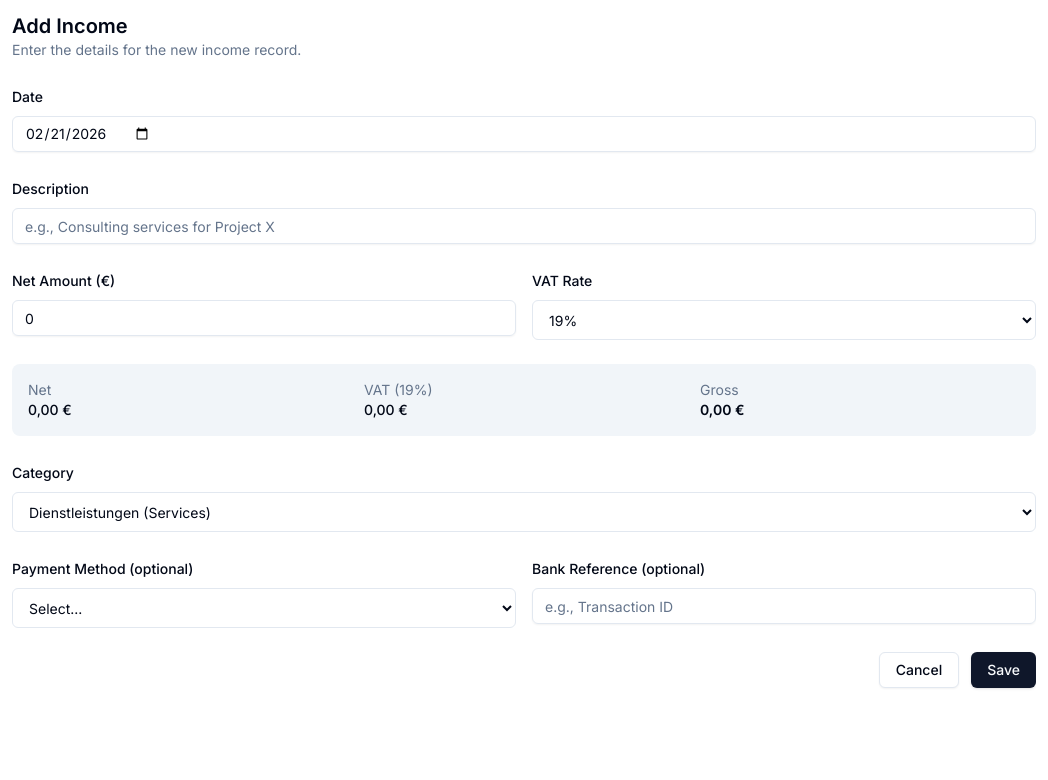
IncomeForm › loading state › disables form during submission
Fill minimum required fields (date already has default value)
Type "Test" into the field labelled "Description" at (524,226), box left=12, top=208, right=1036, bottom=244
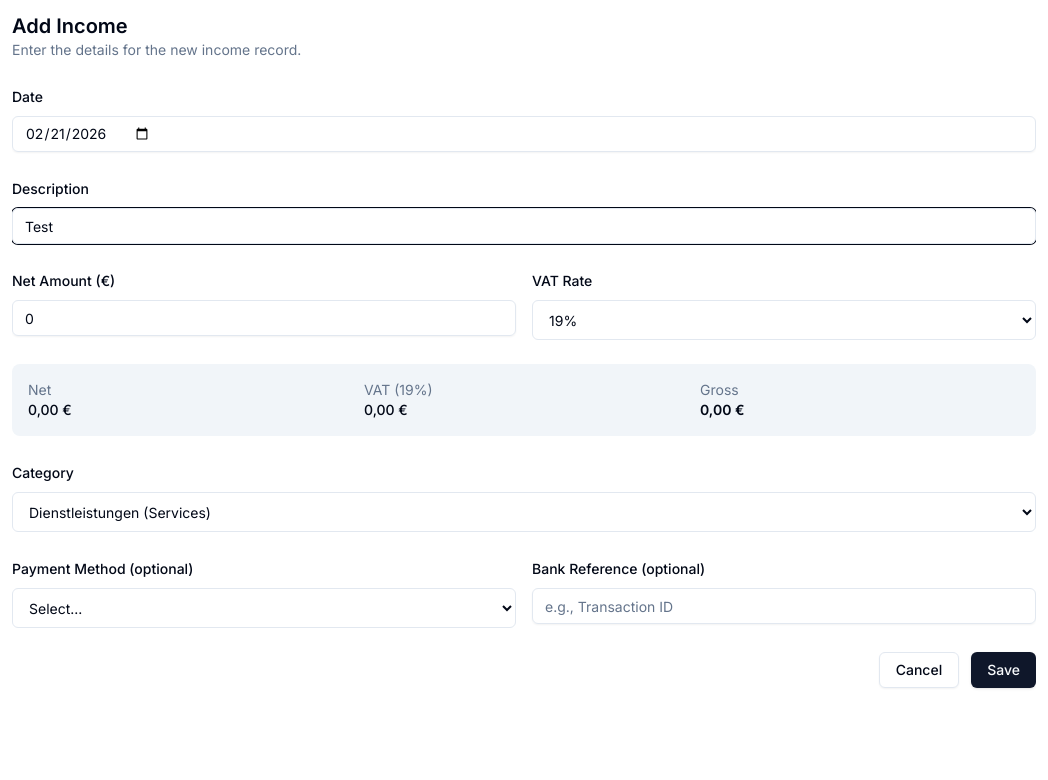
Replace the text in the number field labelled "Net Amount (€)" with "100" at (264,318), box left=12, top=300, right=516, bottom=336
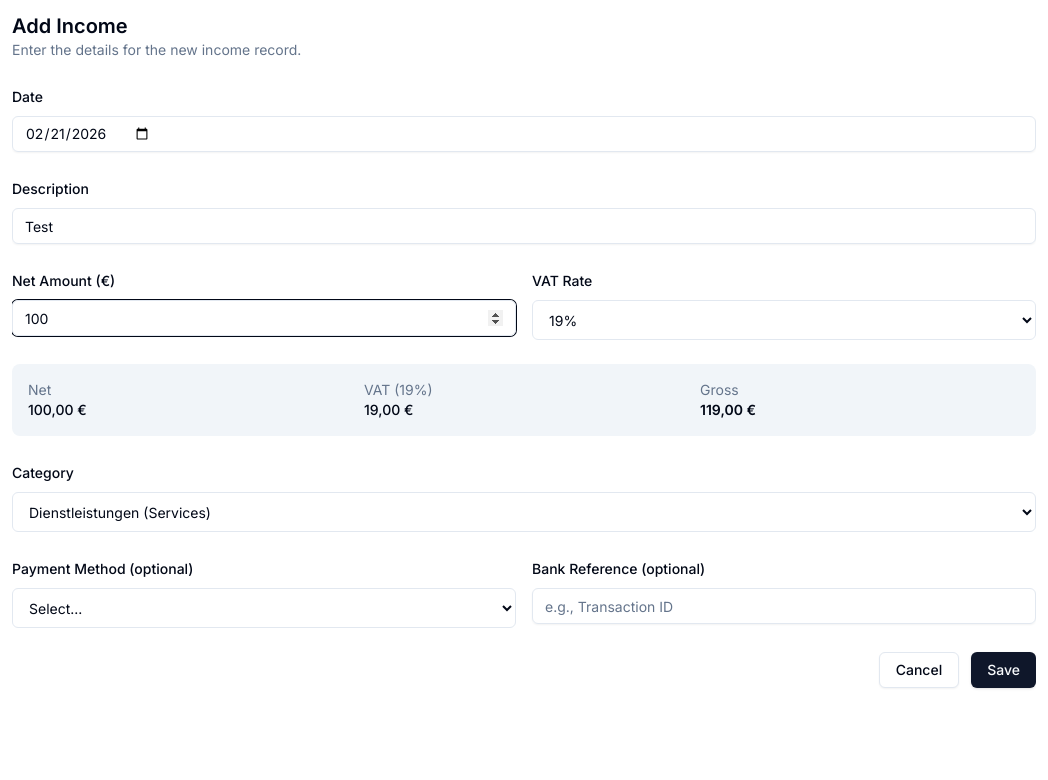
Click the button "Save" at (1004,670), box left=971, top=652, right=1036, bottom=688
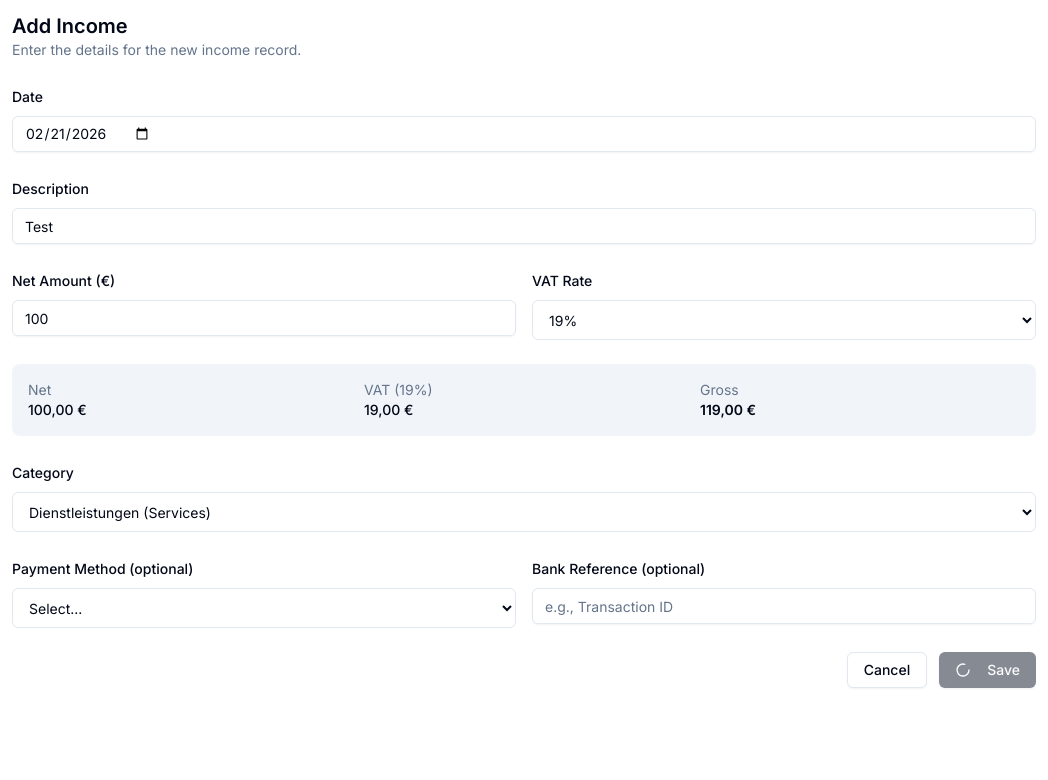
Expected: the button "Save" is disabled, left=939, top=652, right=1036, bottom=688
